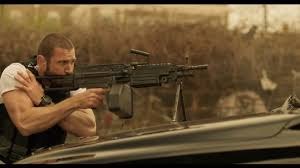gun: (19, 47, 210, 124)
